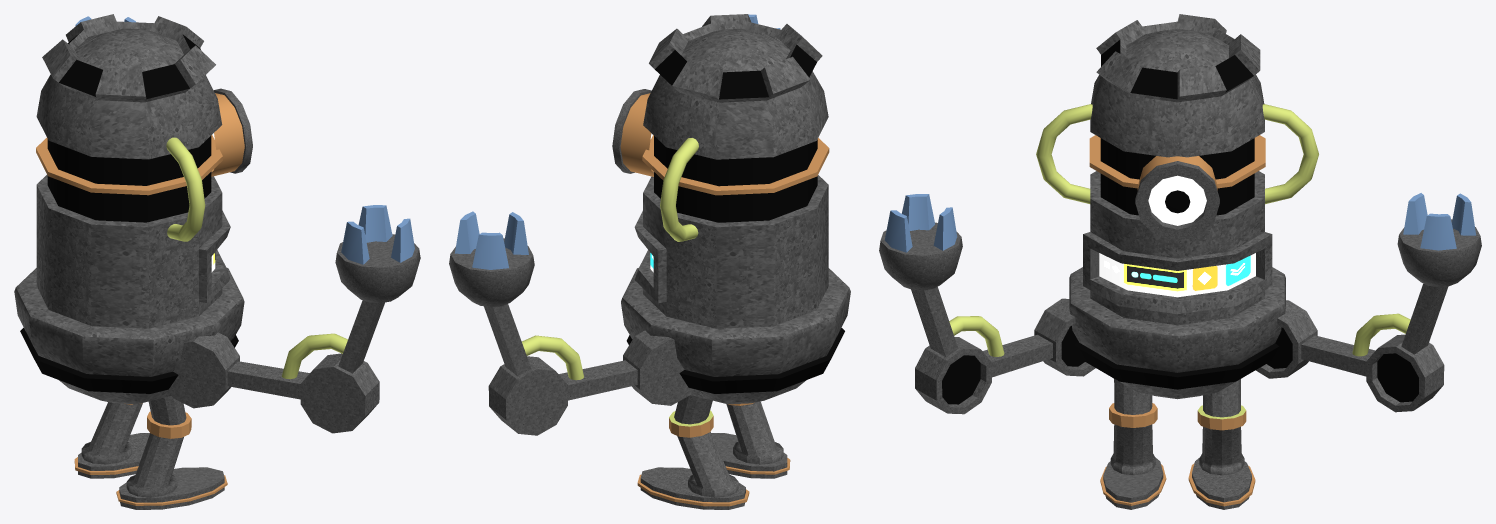
File: finished_robot.glb
3 views of the same model, side by side, from view 1: azimuth 30°, elevation 25°; view 2: azimuth 150°, elevation 25°; view 3: azimuth 270°, elevation 25° (orthographic).
Visible parts, largest first — view 1: body, right_arm, right_leg, right_hand, left_leg, eye, right_ear, pipe.001; view 2: body, left_arm, left_leg, left_hand, right_leg, eye, left_ear, pipe; view 3: body, left_arm, right_arm, right_hand, eye, left_leg, left_hand, right_leg, right_ear, left_ear, pipe, pipe.001.
Boxes of the visible parts, x1,y1,x2,y2 form: body: (14, 14, 244, 404); right_arm: (168, 300, 384, 433); right_leg: (116, 396, 227, 509); right_hand: (335, 205, 420, 303); left_leg: (74, 402, 149, 478); eye: (211, 88, 252, 176); right_ear: (166, 137, 205, 241); pipe.001: (281, 333, 347, 379); body: (621, 14, 850, 404); left_arm: (484, 304, 693, 435); left_leg: (637, 395, 749, 509); left_hand: (449, 211, 534, 307); right_leg: (711, 401, 790, 478); eye: (612, 89, 653, 176); left_ear: (660, 138, 698, 241); pipe: (522, 335, 583, 380); body: (1069, 14, 1285, 399); left_arm: (1255, 283, 1448, 412); right_arm: (911, 287, 1095, 414); right_hand: (879, 194, 962, 290); eye: (1135, 156, 1219, 241); left_leg: (1188, 379, 1255, 509); left_hand: (1397, 193, 1481, 286); right_leg: (1100, 379, 1166, 509); right_ear: (1036, 104, 1092, 203); left_ear: (1262, 104, 1318, 204); pipe: (1352, 313, 1410, 356); pipe.001: (949, 316, 1004, 356).
Size of what is drawn, in the model's own units: 1.19 by 1.99 by 2.48.
Materials: 7 (2 with a texture image).
